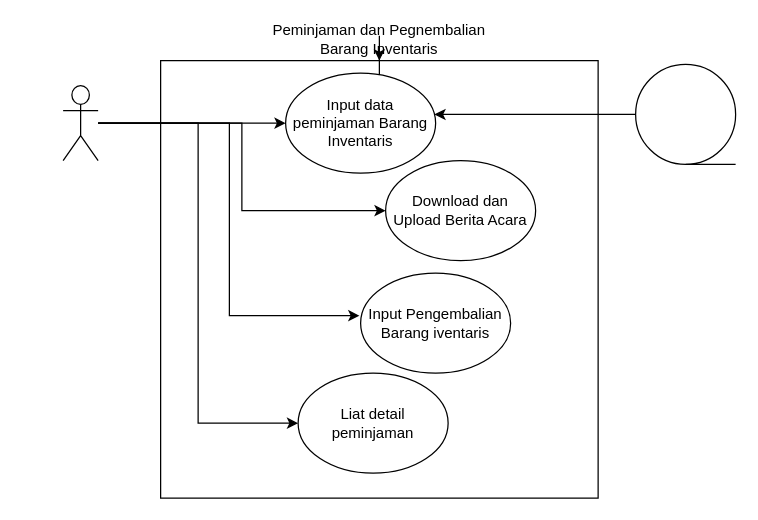
The diagram is 758 pixels wide and 520 high, and some of its shapes have lost their labels. Here are the shapes that lost their labels. From the top down, the centre of each, then its label:
At (x=80, y=122): "Pengelola Barang".
At (x=685, y=113): "SIAP JABAR".
